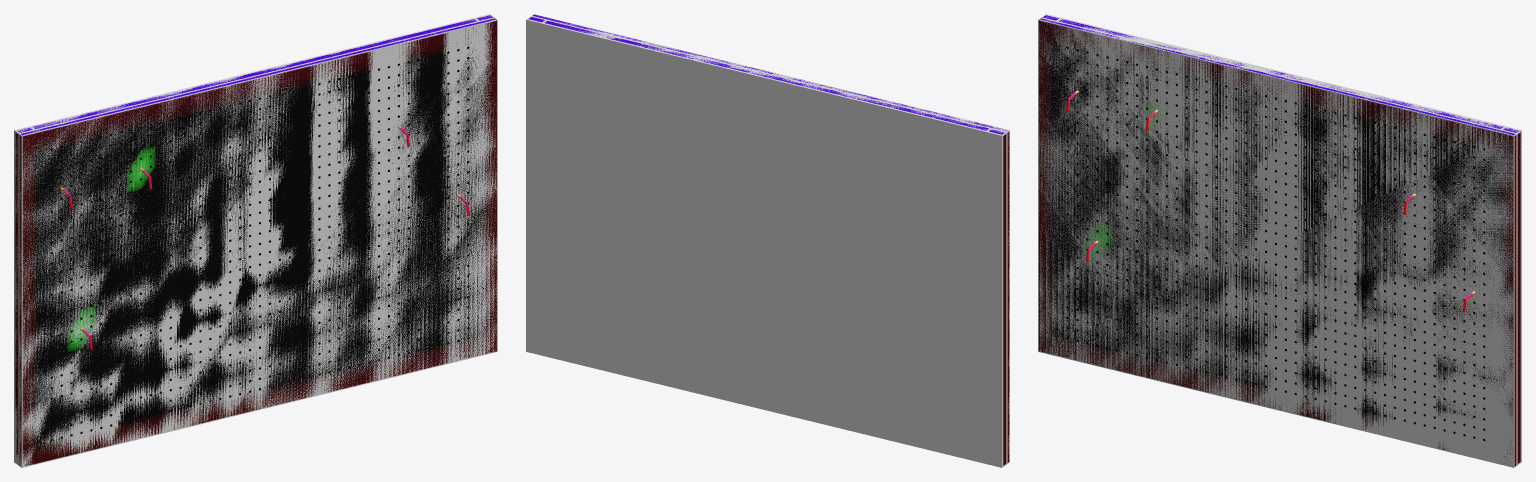
Rendered from prop_pegboard.fbx.
3 renders of one model, left to right at view 1: azimuth 30°, elevation 25°; view 2: azimuth 150°, elevation 25°; view 3: azimuth 330°, elevation 25°, orthographic.
Parts seen in each view (by area): view 1: prop_pegboard, COL_0; view 2: COL_0, prop_pegboard; view 3: COL_0, prop_pegboard.
Part boxes in pixels (bbox=[...]): prop_pegboard: bbox=[15, 15, 496, 465]; COL_0: bbox=[14, 14, 497, 467]; COL_0: bbox=[526, 14, 1009, 467]; prop_pegboard: bbox=[528, 14, 1009, 465]; COL_0: bbox=[1038, 14, 1521, 467]; prop_pegboard: bbox=[1039, 15, 1520, 466].
Bounding box in the file's own units: 1.2 × 0.8 × 0.0809.
